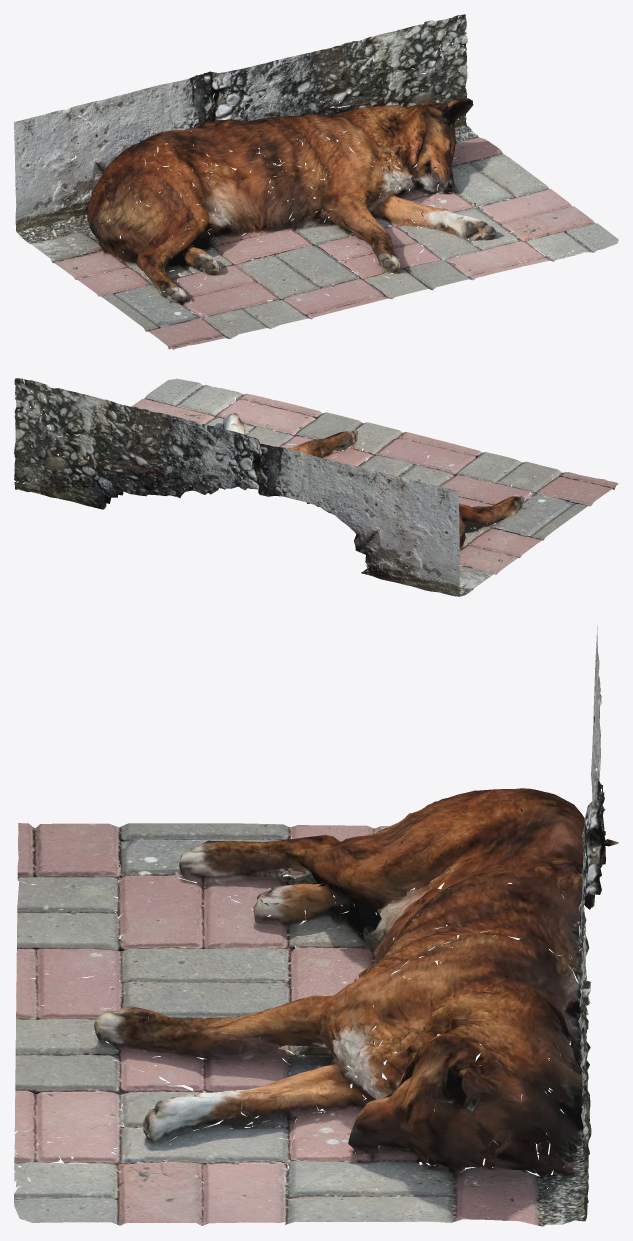
Rendered from sleeping_dog_realistic.glb.
3 views of the same model, one above another, from view 1: azimuth 30°, elevation 25°; view 2: azimuth 150°, elevation 25°; view 3: azimuth 270°, elevation 25° (orthographic). The views are drawn at different scales.
Visible parts, largest first — view 1: Object_2, Object_4, Object_5, Object_3; view 2: Object_2, Object_5, Object_4, Object_3; view 3: Object_2, Object_4, Object_5, Object_3.
Boxes of the visible parts, box(x1,y1,x2,y2) form: Object_2: box(15, 85, 582, 334); Object_4: box(16, 14, 618, 295); Object_5: box(14, 15, 575, 349); Object_3: box(15, 20, 575, 340); Object_2: box(14, 386, 553, 596); Object_5: box(14, 379, 618, 592); Object_4: box(14, 378, 541, 596); Object_3: box(15, 386, 579, 588); Object_2: box(14, 673, 605, 1226); Object_4: box(14, 788, 590, 1225); Object_5: box(14, 625, 618, 1204); Object_3: box(14, 725, 605, 1218).
Size of the model in its own units: 23.23 by 5.79 by 14.97.
2 materials, 2 textured.
